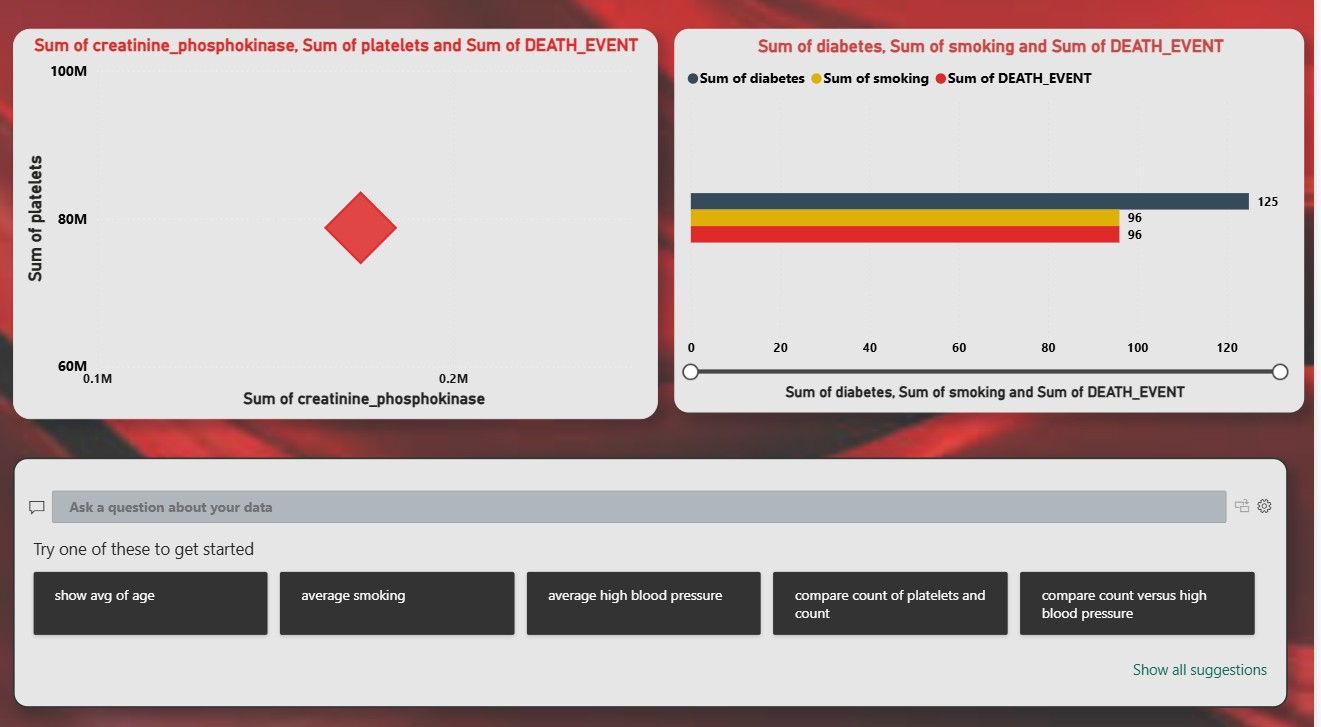

Layout of this report page (visuals, bound fields, positions):
{"tool":"powerbi","page":{"name":"Page 3","canvas":[1280,720],"ordinal":2},"visuals":[{"type":"scatterChart","fields":{"X":["Sum(heart_Disease_clinical_records_.creatinine_phosphokinase)"],"Y":["Sum(heart_Disease_clinical_records_.platelets)"],"Size":["Sum(heart_Disease_clinical_records_.DEATH_EVENT)"]},"box":[24.1,32.6,622.5,376.4],"z":0},{"type":"qnaVisual","box":[24.1,446.4,1230.6,241.3],"z":1000},{"type":"clusteredBarChart","fields":{"Y":["Sum(heart_Disease_clinical_records_.diabetes)","Sum(heart_Disease_clinical_records_.smoking)","Sum(heart_Disease_clinical_records_.DEATH_EVENT)"]},"box":[662.3,32.6,608,370.4],"z":2000}]}

Visuals, with their boxes in screenshot pixels (x1, y1, x2, y2), scaled from the page's 1280x720 canvas onto the 1321x727 screenshot:
scatterChart - Sum(heart_Disease_clinical_records_.creatinine_phosphokinase) x Sum(heart_Disease_clinical_records_.platelets): <bbox>25, 33, 667, 413</bbox>
qnaVisual: <bbox>25, 451, 1295, 694</bbox>
clusteredBarChart - Sum(heart_Disease_clinical_records_.diabetes) x Sum(heart_Disease_clinical_records_.smoking): <bbox>684, 33, 1311, 407</bbox>
